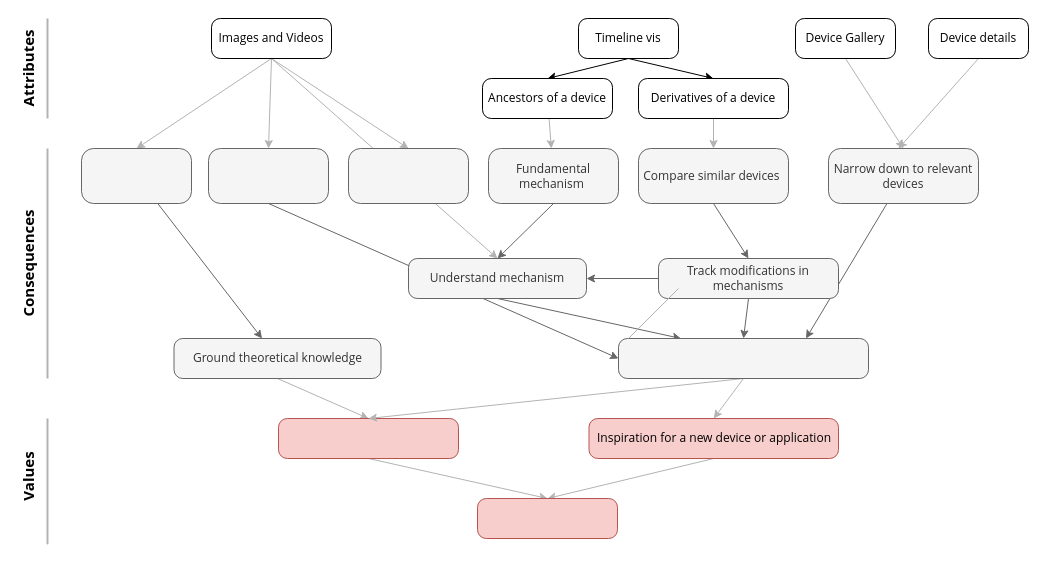
Image size: 1046x567. Some labels were removed from this diagram. The centre of each missing label's shape, as x and y in pixels:
"Competence" goes at (547,518).
"Device software environment" goes at (268,176).
"How a device is used for an application" goes at (743,358).
"How people interact with a device" goes at (408,176).
"Satisfy intellectual curiosity" goes at (368,438).
"Visualize device attributes" goes at (136,176).
